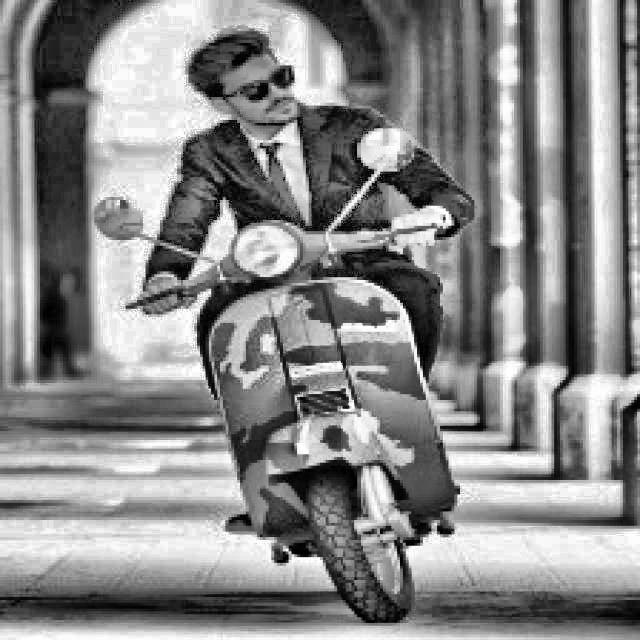motorcycle: (87, 130, 514, 626)
